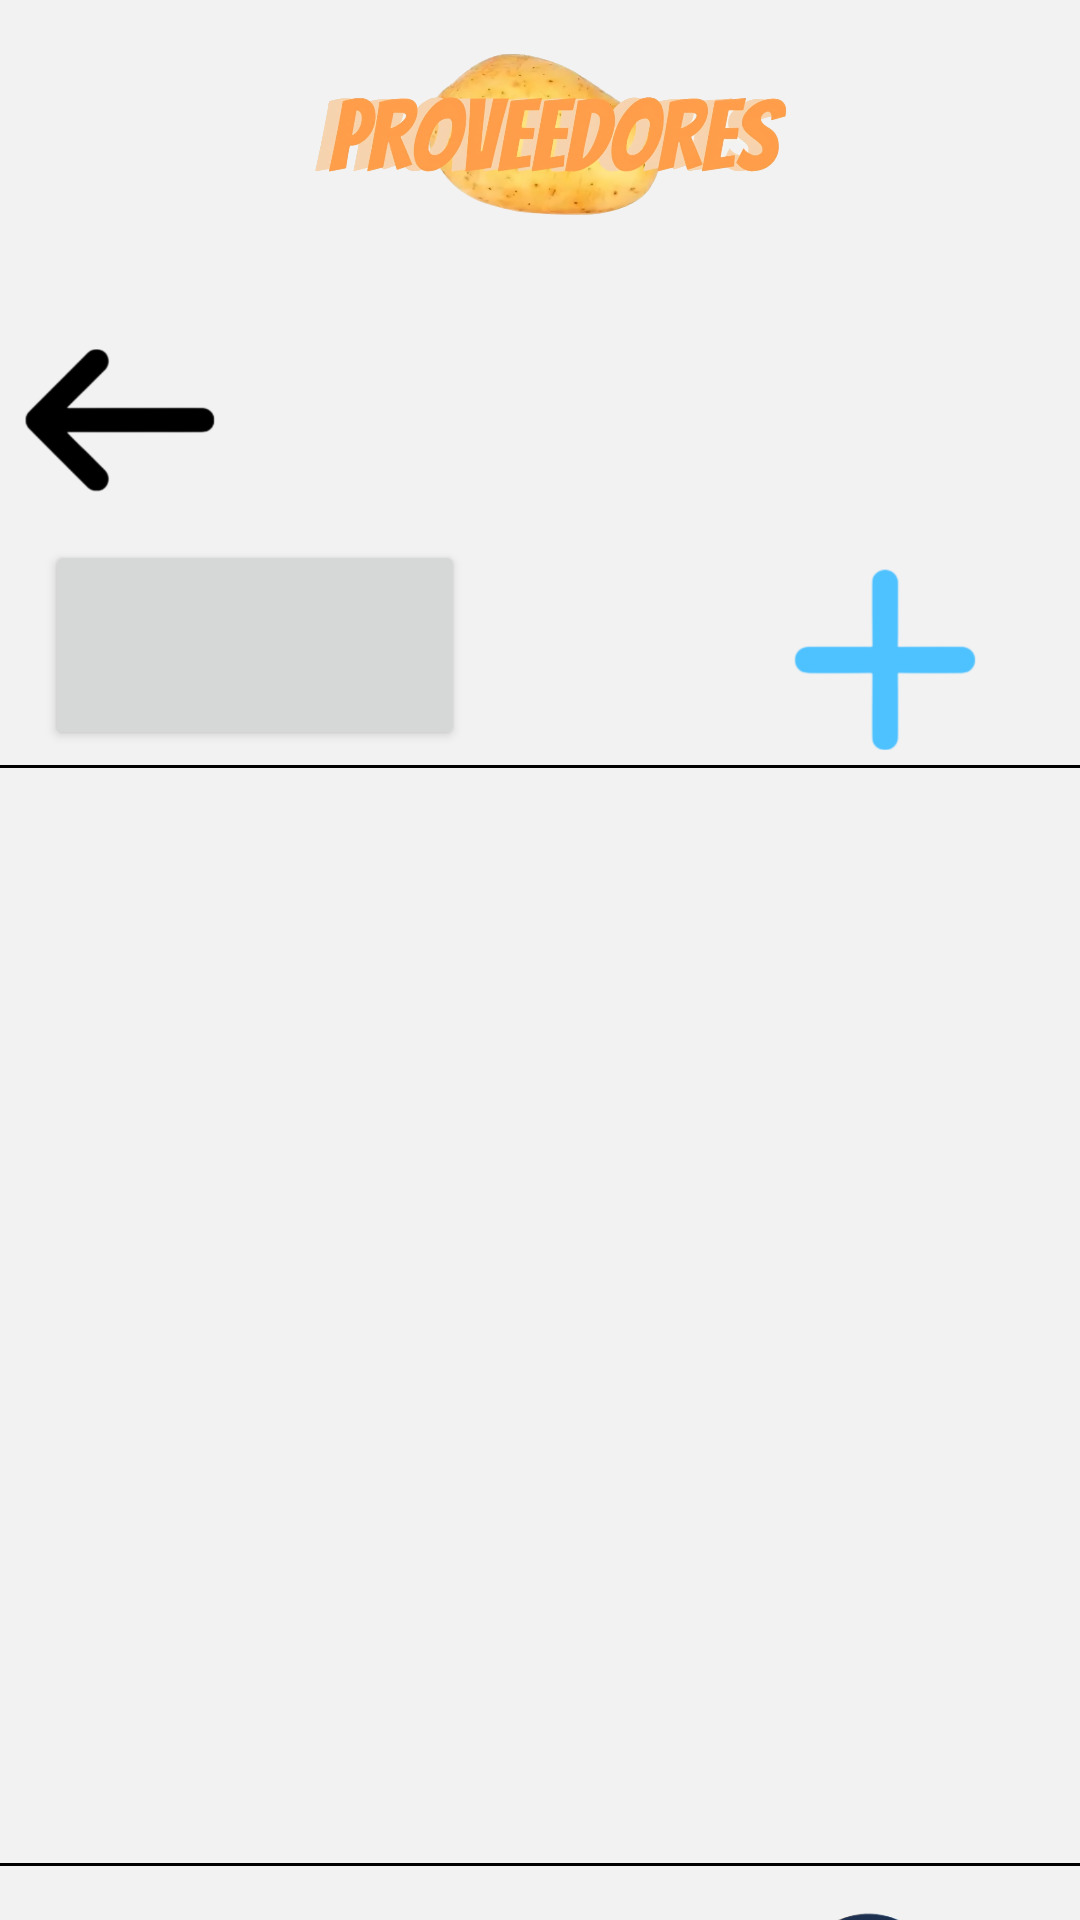

Icons on this 1080w x 1920h Android screen, each with its box as (x1, y1, x2, y2):
flecha: (25, 349, 215, 492)
